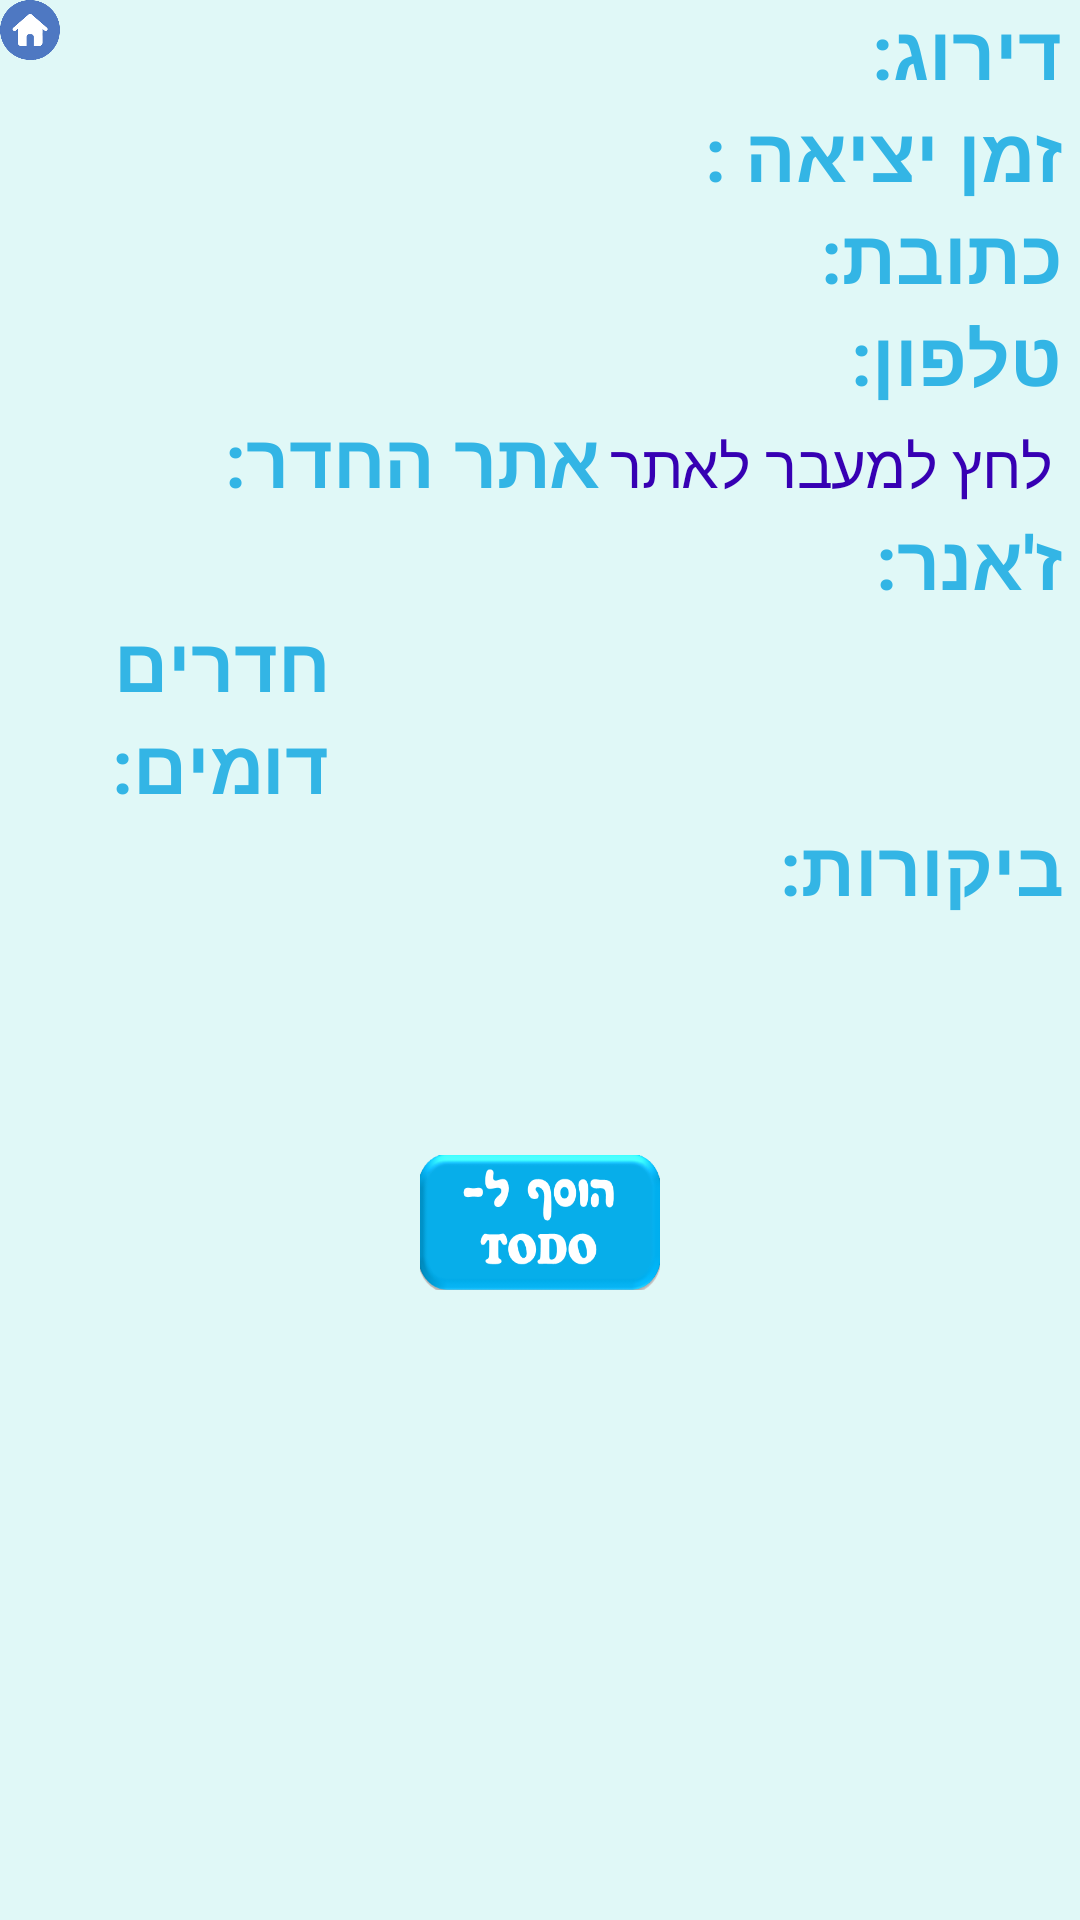

Screen size 1080×1920. Icon name, then its center in pixels as point (x, y):
gotomenu: point (30, 30)
